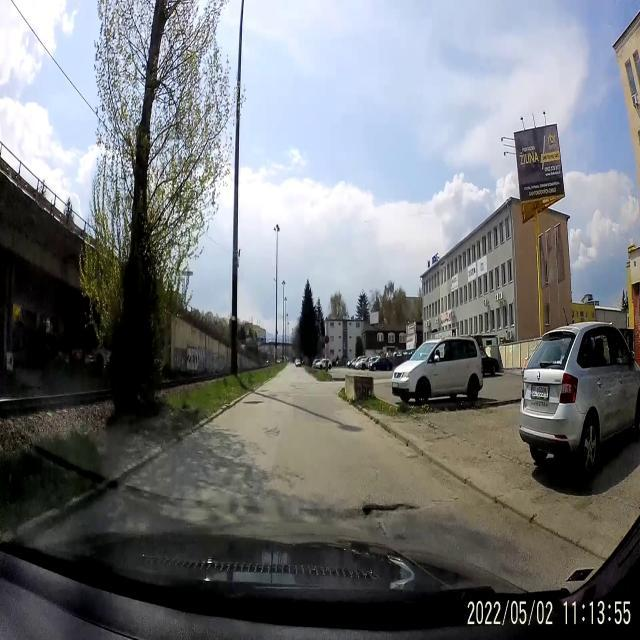Pothole: (361, 492, 408, 526), (264, 426, 280, 441), (243, 398, 266, 408)
